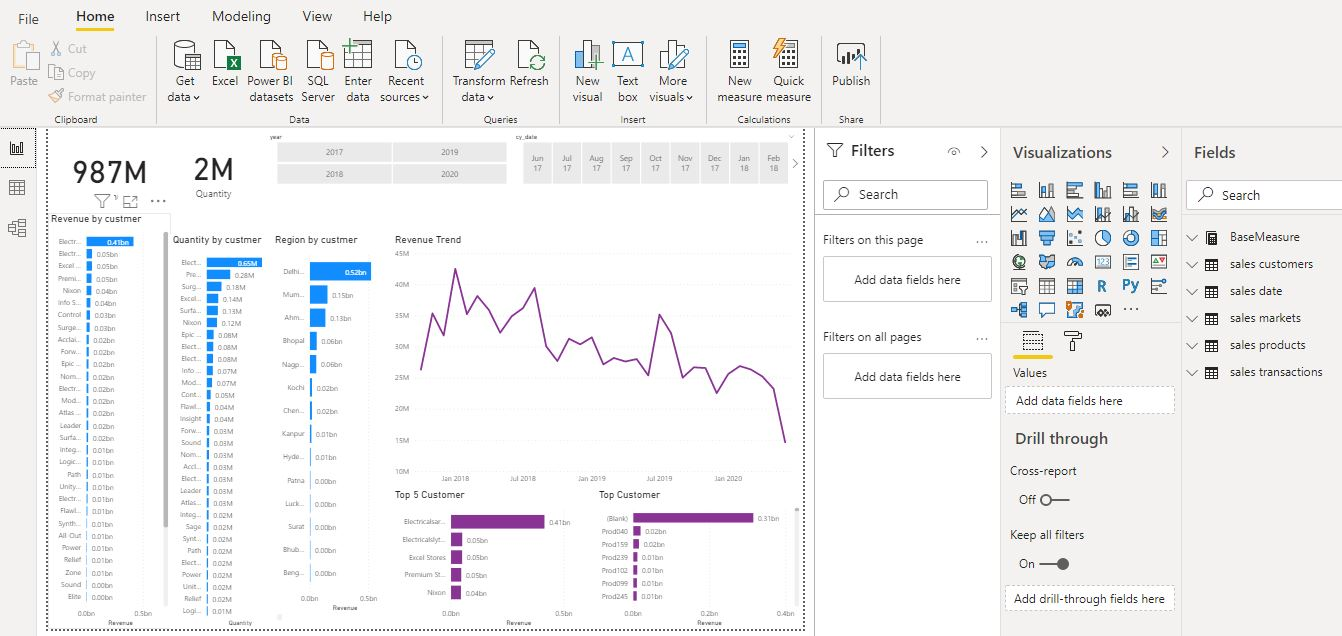

The dashboard page shown, as its layout file describes it:
{"tool":"powerbi","page":{"name":"Revenue review ","canvas":[1280,850],"ordinal":0},"visuals":[{"type":"card","fields":{"Values":["BaseMeasure.Revenue"]},"box":[0,0,208.7,156.1],"z":0},{"type":"card","fields":{"Values":["BaseMeasure.Quantity"]},"box":[181.5,0,198.5,144.2],"z":1000},{"type":"barChart","title":"Revenue by custmer","fields":{"Category":["sales customers.custmer_name"],"Y":["BaseMeasure.Revenue"]},"box":[0,144.2,208.7,705.8],"z":2000},{"type":"barChart","title":"Quantity by custmer","fields":{"Category":["sales customers.custmer_name"],"Y":["BaseMeasure.Quantity"]},"box":[207,179.8,195.1,670.2],"z":3000},{"type":"slicer","fields":{"Values":["sales date.year"]},"box":[363.1,3.4,439.4,98.4],"z":4000},{"type":"slicer","fields":{"Values":["sales date.cy_date"]},"box":[780.4,3.4,498.8,98.4],"z":5000},{"type":"barChart","title":"Region by custmer","fields":{"Category":["sales markets.markets_name"],"Y":["BaseMeasure.Revenue"]},"box":[380,179.8,203.6,644.7],"z":6000},{"type":"barChart","title":"Top 5 Customer","fields":{"Category":["sales customers.custmer_name"],"Y":["BaseMeasure.Revenue"]},"box":[583.6,612.5,349.5,237.5],"z":7000},{"type":"barChart","title":"Top Customer","fields":{"Y":["BaseMeasure.Revenue"],"Category":["sales products.product_code"]},"box":[929.7,612.5,349.5,237.5],"z":8000},{"type":"lineChart","title":"Revenue Trend","fields":{"Y":["BaseMeasure.Revenue"],"Category":["sales date.cy_date"]},"box":[583.6,179.8,695.6,432.6],"z":9000}]}

Visuals, with their boxes on the page's 1280x850 design canvas (x1, y1, x2, y2). These are canvas units, not pixel positions in the 1342x636 screenshot, which may show the page scaled, cropped or inside an application window:
card - BaseMeasure.Revenue: {"x1": 0, "y1": 0, "x2": 209, "y2": 156}
card - BaseMeasure.Quantity: {"x1": 182, "y1": 0, "x2": 380, "y2": 144}
"Revenue by custmer" barChart: {"x1": 0, "y1": 144, "x2": 209, "y2": 850}
"Quantity by custmer" barChart: {"x1": 207, "y1": 180, "x2": 402, "y2": 850}
slicer - sales date.year: {"x1": 363, "y1": 3, "x2": 802, "y2": 102}
slicer - sales date.cy_date: {"x1": 780, "y1": 3, "x2": 1279, "y2": 102}
"Region by custmer" barChart: {"x1": 380, "y1": 180, "x2": 584, "y2": 824}
"Top 5 Customer" barChart: {"x1": 584, "y1": 612, "x2": 933, "y2": 850}
"Top Customer" barChart: {"x1": 930, "y1": 612, "x2": 1279, "y2": 850}
"Revenue Trend" lineChart: {"x1": 584, "y1": 180, "x2": 1279, "y2": 612}
